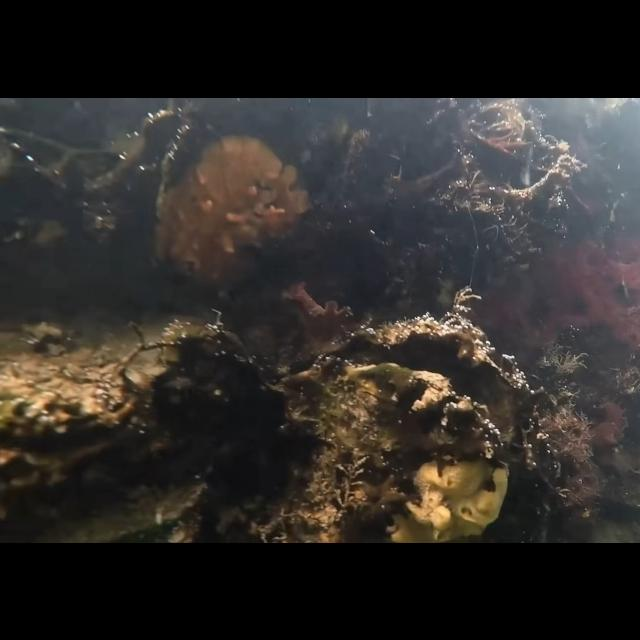Oyster-Closed: (148, 116, 314, 298)
Oyster-Open: (277, 314, 517, 542), (0, 313, 222, 490), (63, 482, 205, 542)
